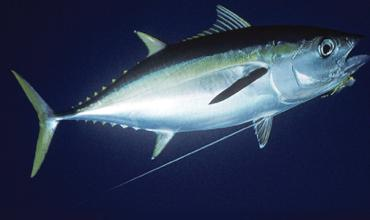Scombridae -Tunas-: (8, 0, 370, 180)
